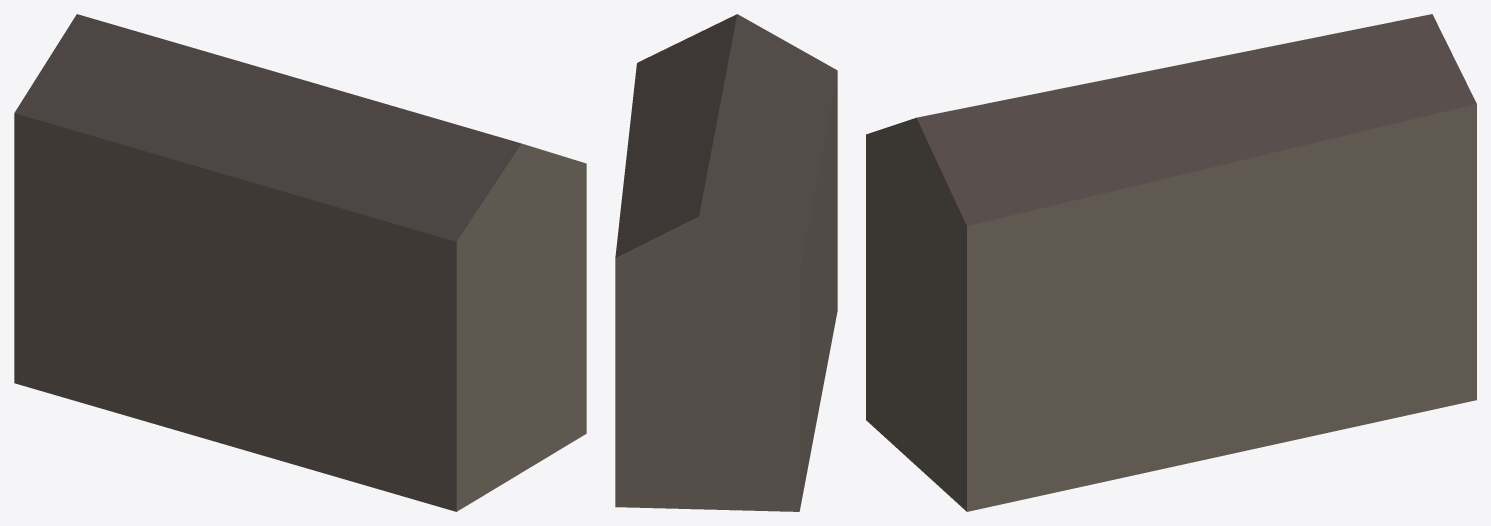
3 renders of one model, left to right at view 1: azimuth 30°, elevation 25°; view 2: azimuth 150°, elevation 25°; view 3: azimuth 270°, elevation 25°, orthographic. The views are drawn at different scales.
Parts seen in each view (by area): view 1: HP-w505646895; view 2: HP-w505646895; view 3: HP-w505646895.
Boxes of the visible parts, bbox=[...] form: HP-w505646895: bbox=[14, 14, 586, 511]; HP-w505646895: bbox=[615, 14, 837, 511]; HP-w505646895: bbox=[866, 14, 1476, 511].
Bounding box in the file's own units: 13.17 × 10.97 × 17.44.
